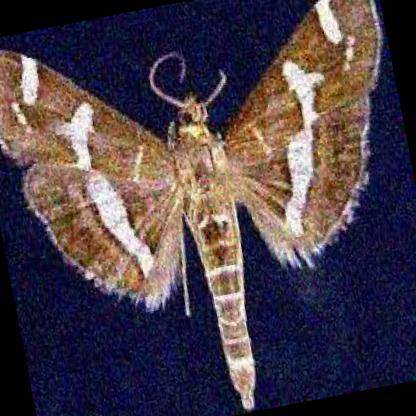Leaf Webber: (0, 0, 376, 408)
